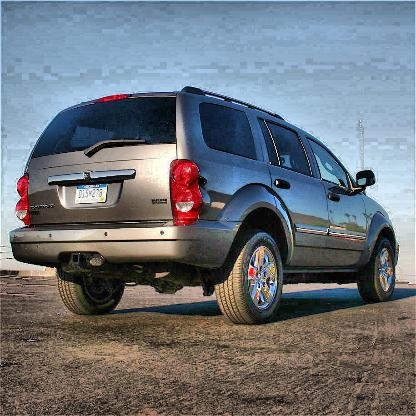Dodge Durango SUV 2007: (9, 84, 403, 328)
